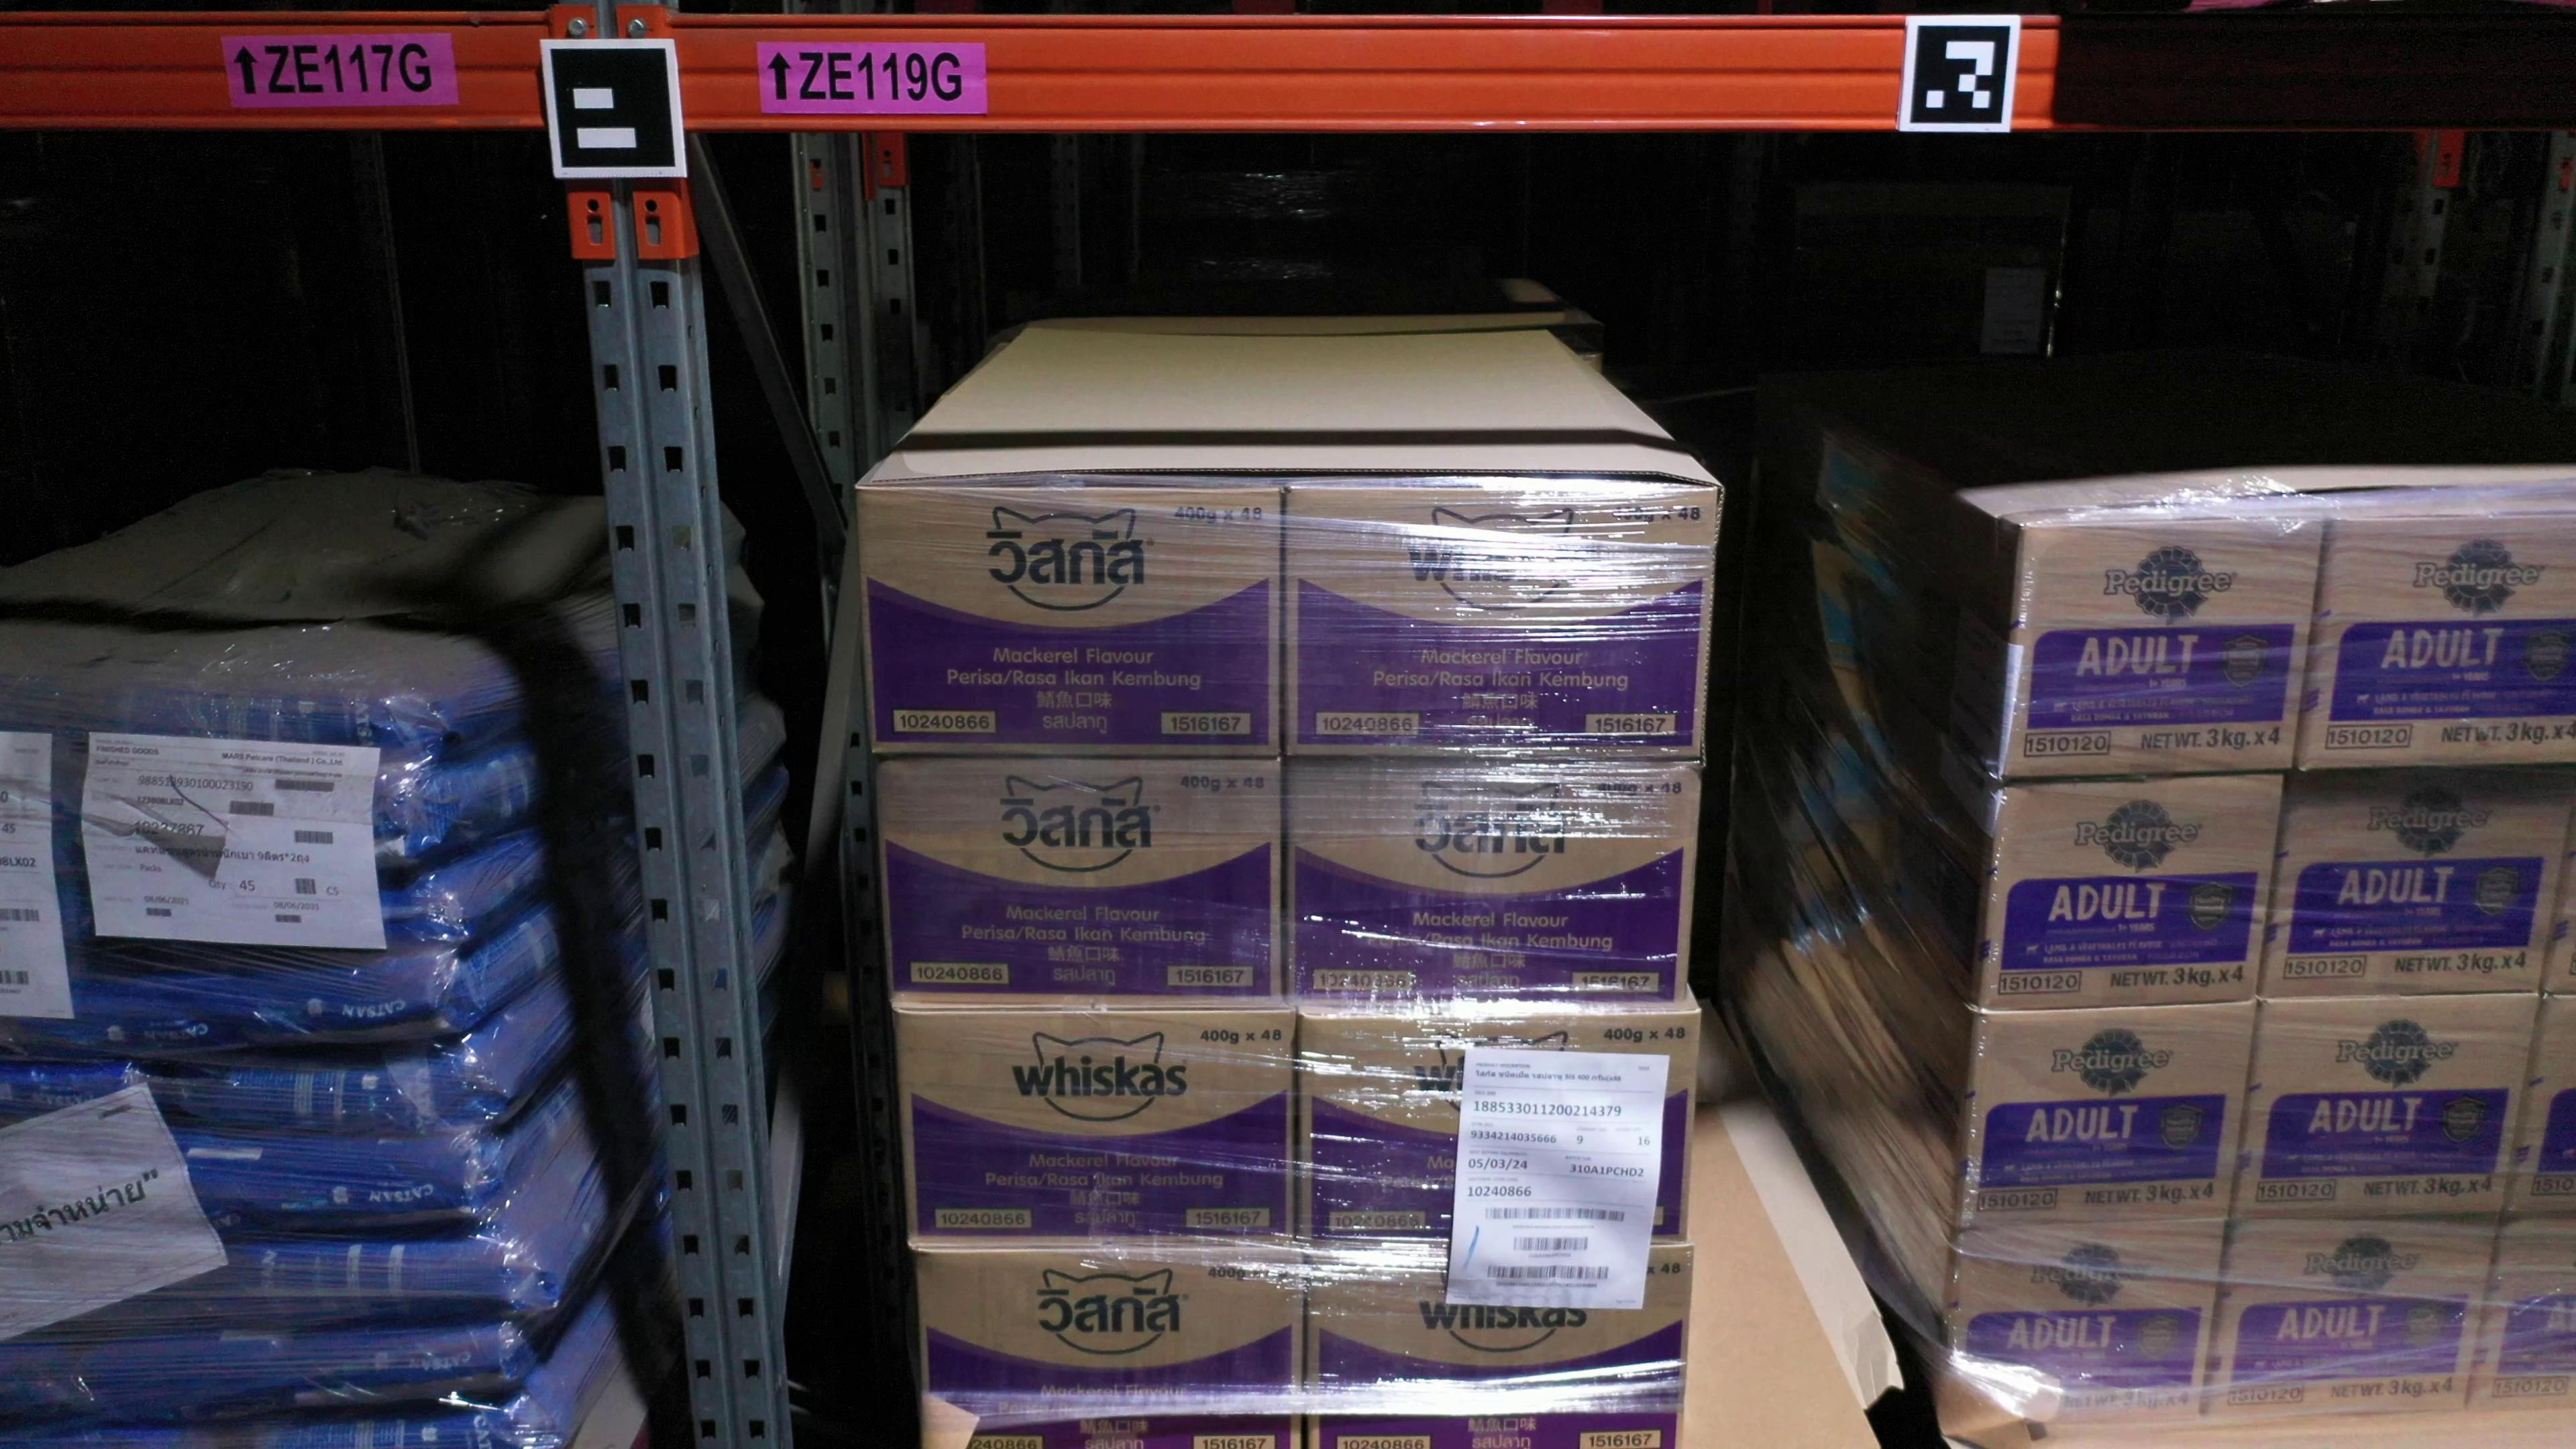-: (1283, 483, 1721, 763), (855, 481, 1283, 763), (874, 757, 1281, 1016), (1288, 757, 1702, 1010), (1297, 1010, 1700, 1253), (899, 1014, 1299, 1253), (1999, 518, 2325, 780), (918, 1247, 1307, 1449), (1306, 1247, 1695, 1449), (2261, 763, 2576, 998), (2227, 991, 2541, 1226), (2298, 511, 2576, 773), (1976, 778, 2282, 1007), (1957, 1008, 2261, 1228), (2204, 1223, 2500, 1417), (1951, 1228, 2226, 1421), (2468, 1221, 2576, 1407), (2509, 993, 2576, 1219)
